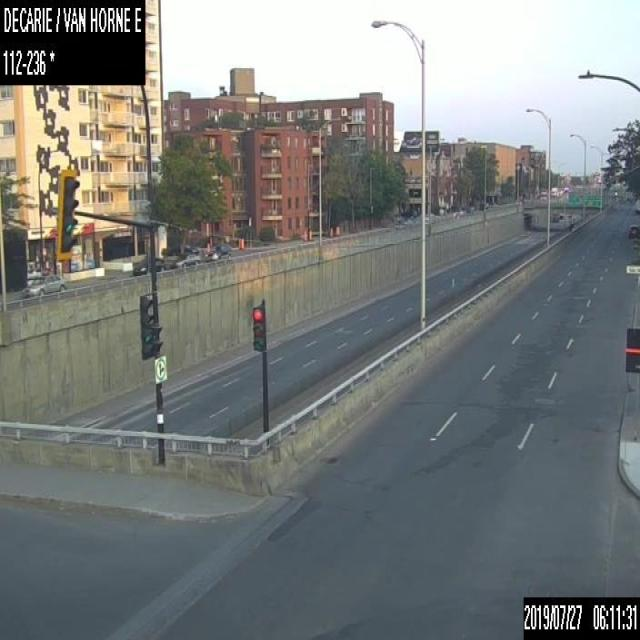construction: (239, 236, 243, 251), (335, 225, 339, 235), (205, 242, 209, 252), (308, 228, 311, 239), (329, 226, 332, 235), (304, 228, 306, 240)
vehicle: (23, 274, 65, 298), (131, 254, 165, 274), (204, 244, 233, 259), (173, 250, 200, 266), (628, 224, 639, 236), (550, 186, 557, 196)
